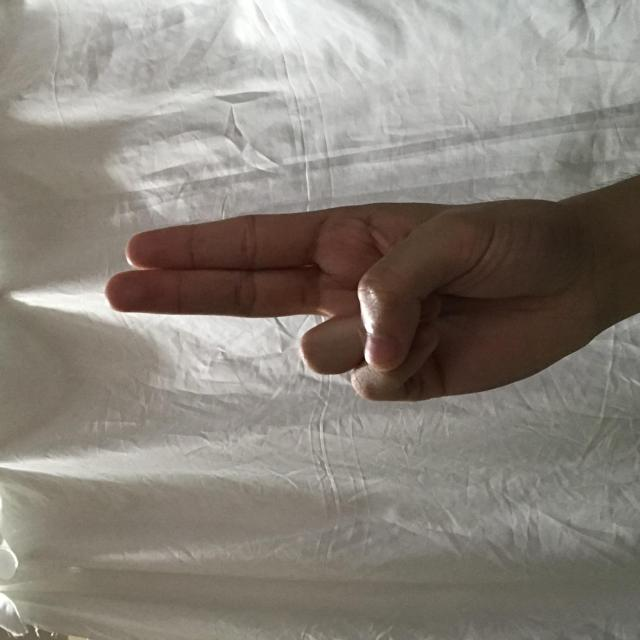U: (235, 106, 440, 573)
